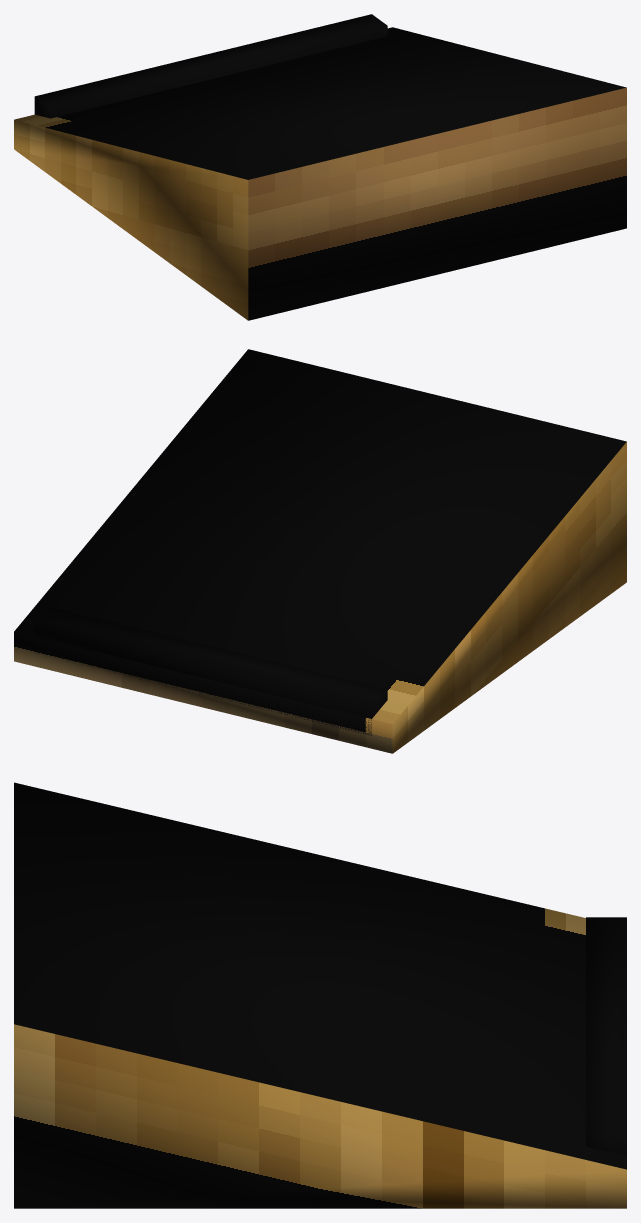
The model's file is lectern.obj.
The picture shows the model from 3 angles, top to bottom: view 1: azimuth 30°, elevation 25°; view 2: azimuth 150°, elevation 25°; view 3: azimuth 270°, elevation 25°; orthographic projection. The views are drawn at different scales.
Parts seen in each view (by area): view 1: base, brim; view 2: base, brim; view 3: base, brim.
Part boxes in pixels (x1,y1,x2,y2): base: [14, 27, 626, 320]; brim: [34, 14, 387, 118]; base: [14, 349, 626, 753]; brim: [34, 607, 387, 735]; base: [14, 782, 626, 1208]; brim: [586, 917, 626, 1156].
Bounding box in the file's own units: 0.875 × 0.3109 × 0.9375.
